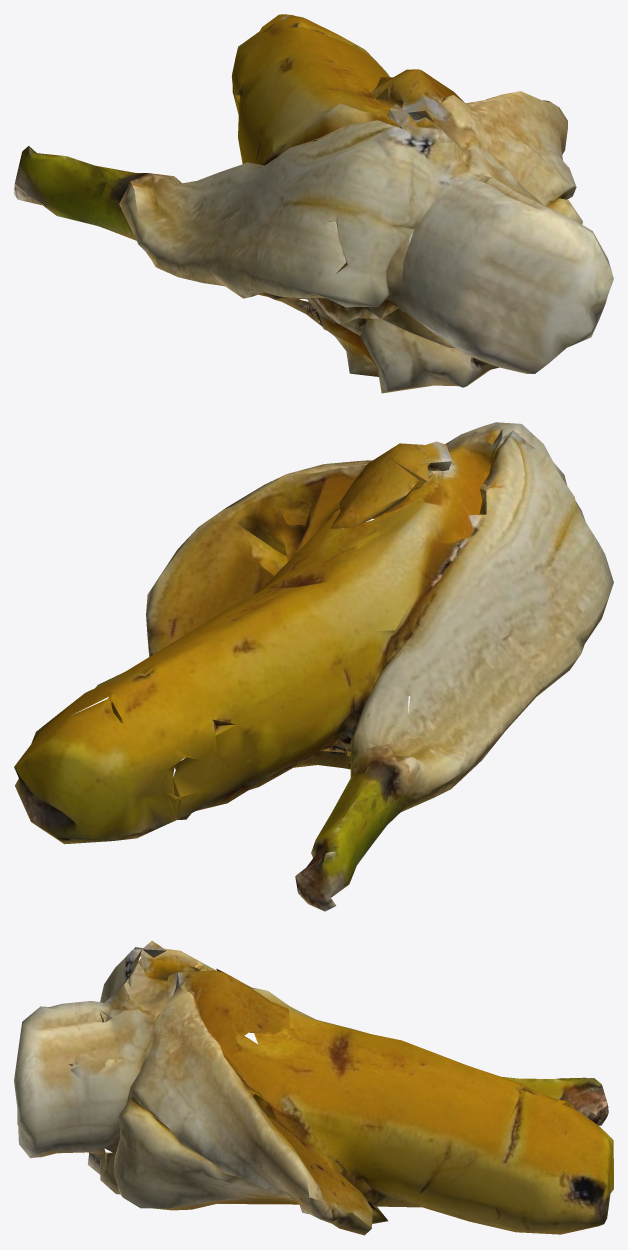
The model's file is rapid.glb.
The picture shows the model from 3 angles, top to bottom: view 1: azimuth 30°, elevation 25°; view 2: azimuth 150°, elevation 25°; view 3: azimuth 270°, elevation 25°; orthographic projection. The views are drawn at different scales.
Size of the model in its own units: 93.28 by 61.93 by 154.
Materials: 1 (1 with a texture image).
